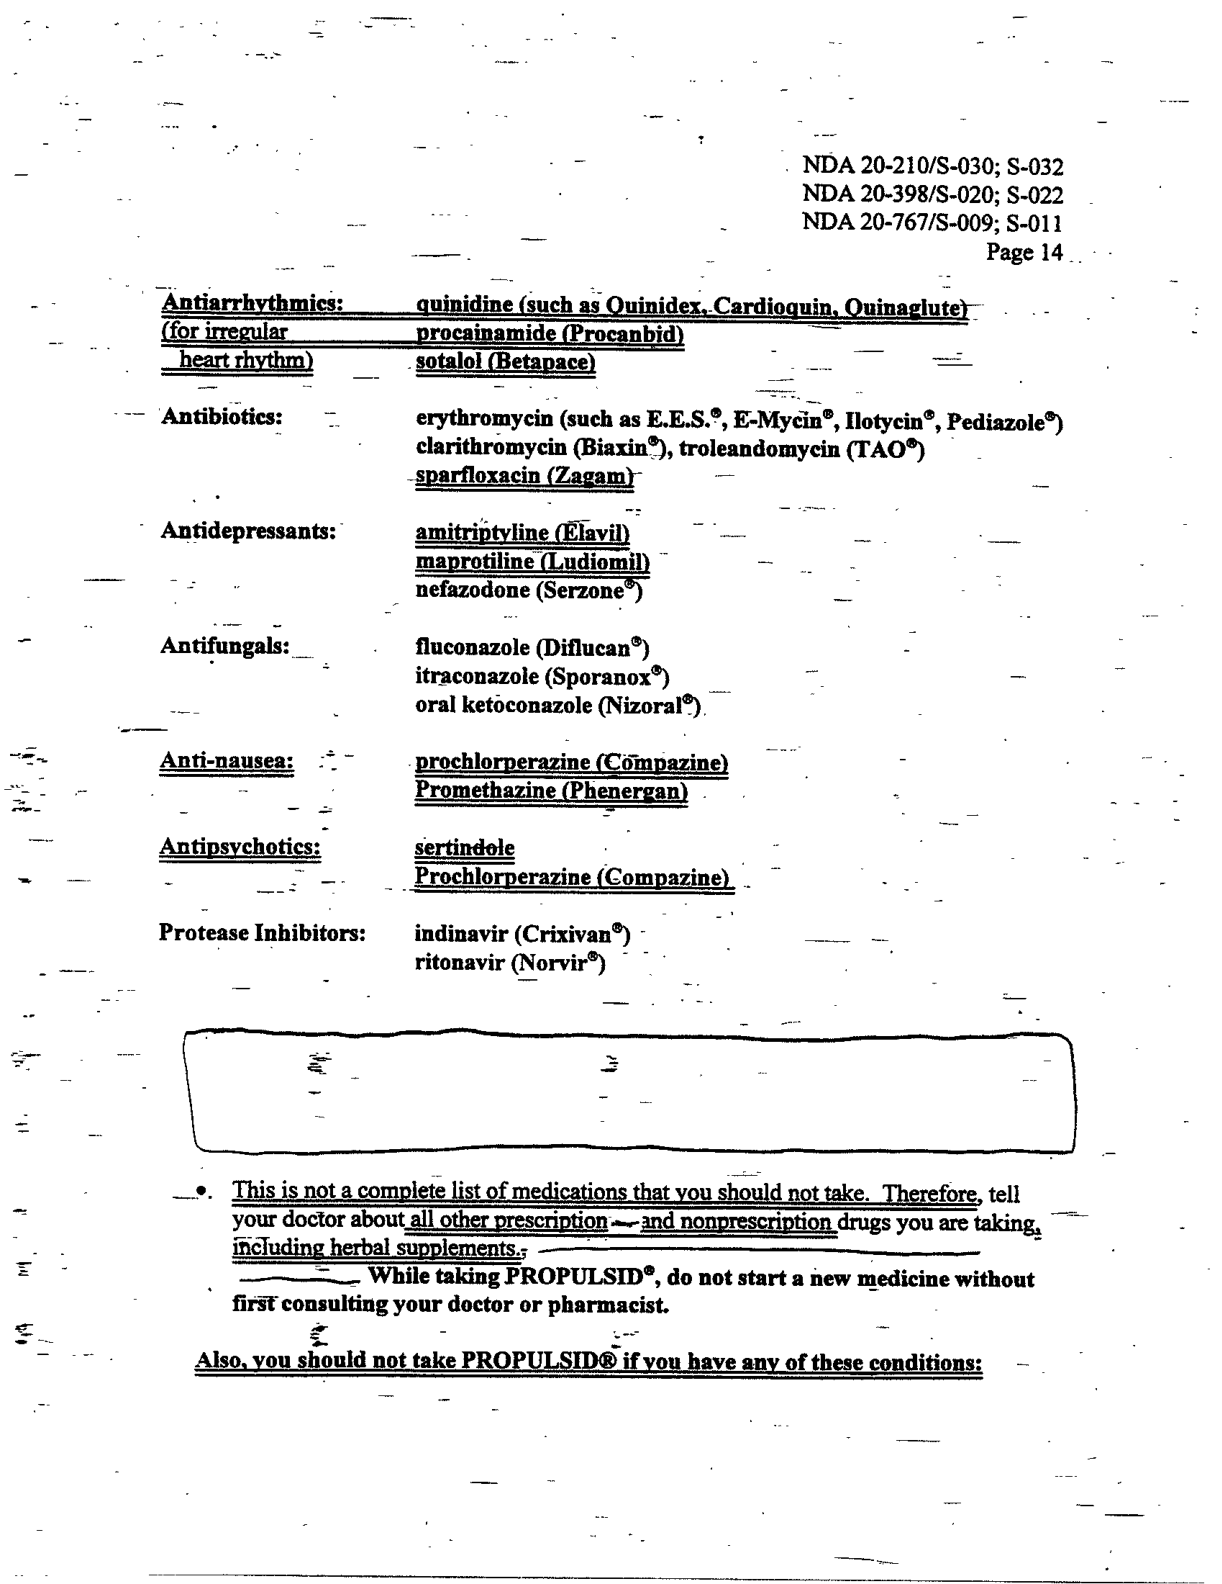nolines: (157, 288, 1065, 973)
